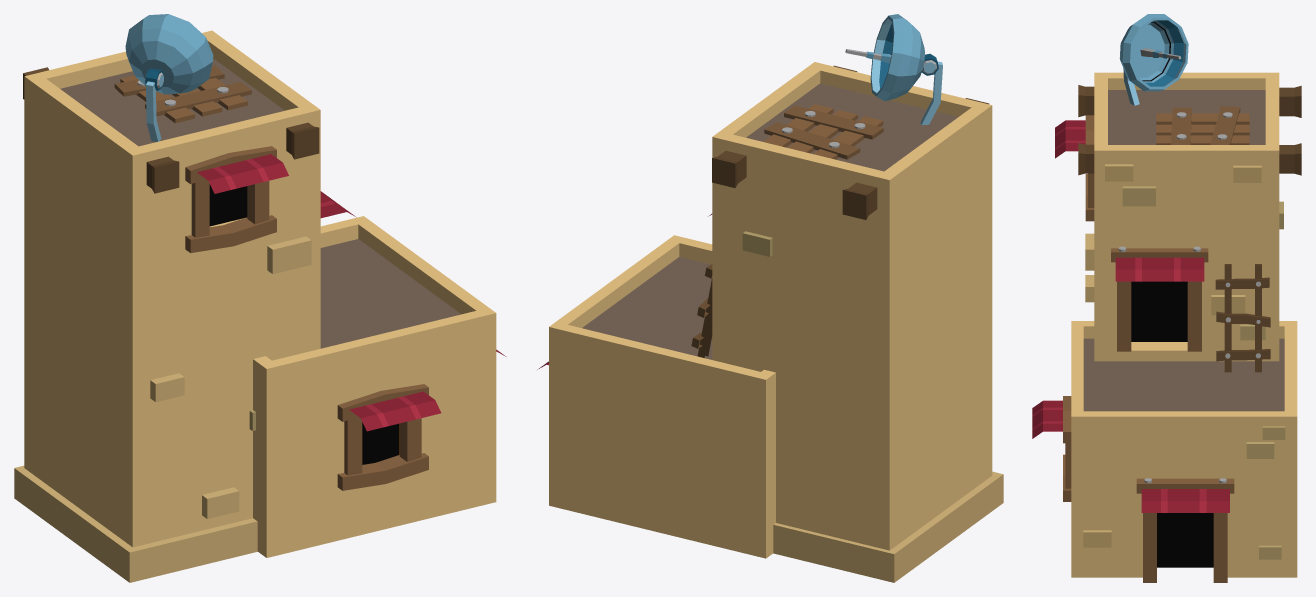
File: DesertHouse_2.fbx
3 views of the same model, side by side, from view 1: azimuth 30°, elevation 25°; view 2: azimuth 150°, elevation 25°; view 3: azimuth 270°, elevation 25° (orthographic). The views are drawn at different scales.
Parts seen in each view (by area): view 1: Cube.037, Cube.036, Cube.071, Cube.147, Cube.145, Plane.005, Plane.003, Cube.048, Cube.045, Cube.053, Cube.047, Cube.046 (+8 smaller); view 2: Cube.037, Cube.036, Cube.071, Cube.147, Cube.145, Cube.040, Cube.066, Cube.093, Cube.070; view 3: Cube.036, Cube.037, Cube.147, Cube.145, Cube.093, Plane.001, Plane.002, Cube.043, Cube.055, Cube.056, Cube.038, Plane.003 (+15 smaller).
Part boxes in pixels (x1=…): Cube.037: x1=24, y1=30, x2=320, y2=547; Cube.036: x1=253, y1=216, x2=496, y2=557; Cube.071: x1=14, y1=465, x2=257, y2=582; Cube.147: x1=125, y1=14, x2=213, y2=141; Cube.145: x1=114, y1=65, x2=251, y2=123; Plane.005: x1=197, y1=154, x2=288, y2=193; Plane.003: x1=349, y1=391, x2=441, y2=431; Cube.048: x1=185, y1=215, x2=276, y2=253; Cube.045: x1=337, y1=453, x2=428, y2=490; Cube.053: x1=267, y1=236, x2=311, y2=273; Cube.047: x1=185, y1=146, x2=276, y2=184; Cube.046: x1=344, y1=417, x2=362, y2=475; Cube.037: x1=712, y1=62, x2=992, y2=550; Cube.036: x1=549, y1=235, x2=775, y2=558; Cube.071: x1=773, y1=471, x2=1003, y2=582; Cube.147: x1=845, y1=14, x2=942, y2=125; Cube.145: x1=763, y1=104, x2=883, y2=159; Cube.040: x1=842, y1=182, x2=877, y2=219; Cube.066: x1=712, y1=150, x2=746, y2=188; Cube.093: x1=691, y1=264, x2=712, y2=357; Cube.070: x1=742, y1=231, x2=772, y2=256; Cube.036: x1=1071, y1=321, x2=1297, y2=577; Cube.037: x1=1094, y1=72, x2=1279, y2=361; Cube.147: x1=1119, y1=14, x2=1188, y2=105; Cube.145: x1=1156, y1=106, x2=1249, y2=144; Cube.093: x1=1215, y1=264, x2=1270, y2=372; Plane.001: x1=1115, y1=257, x2=1204, y2=281; Plane.002: x1=1141, y1=489, x2=1229, y2=512; Cube.043: x1=1136, y1=478, x2=1234, y2=493; Cube.055: x1=1187, y1=281, x2=1201, y2=351; Cube.056: x1=1117, y1=281, x2=1131, y2=351; Cube.038: x1=1213, y1=513, x2=1227, y2=582; Plane.003: x1=1032, y1=400, x2=1062, y2=438.
Size of the model in its own units: 357 by 436 by 238.
